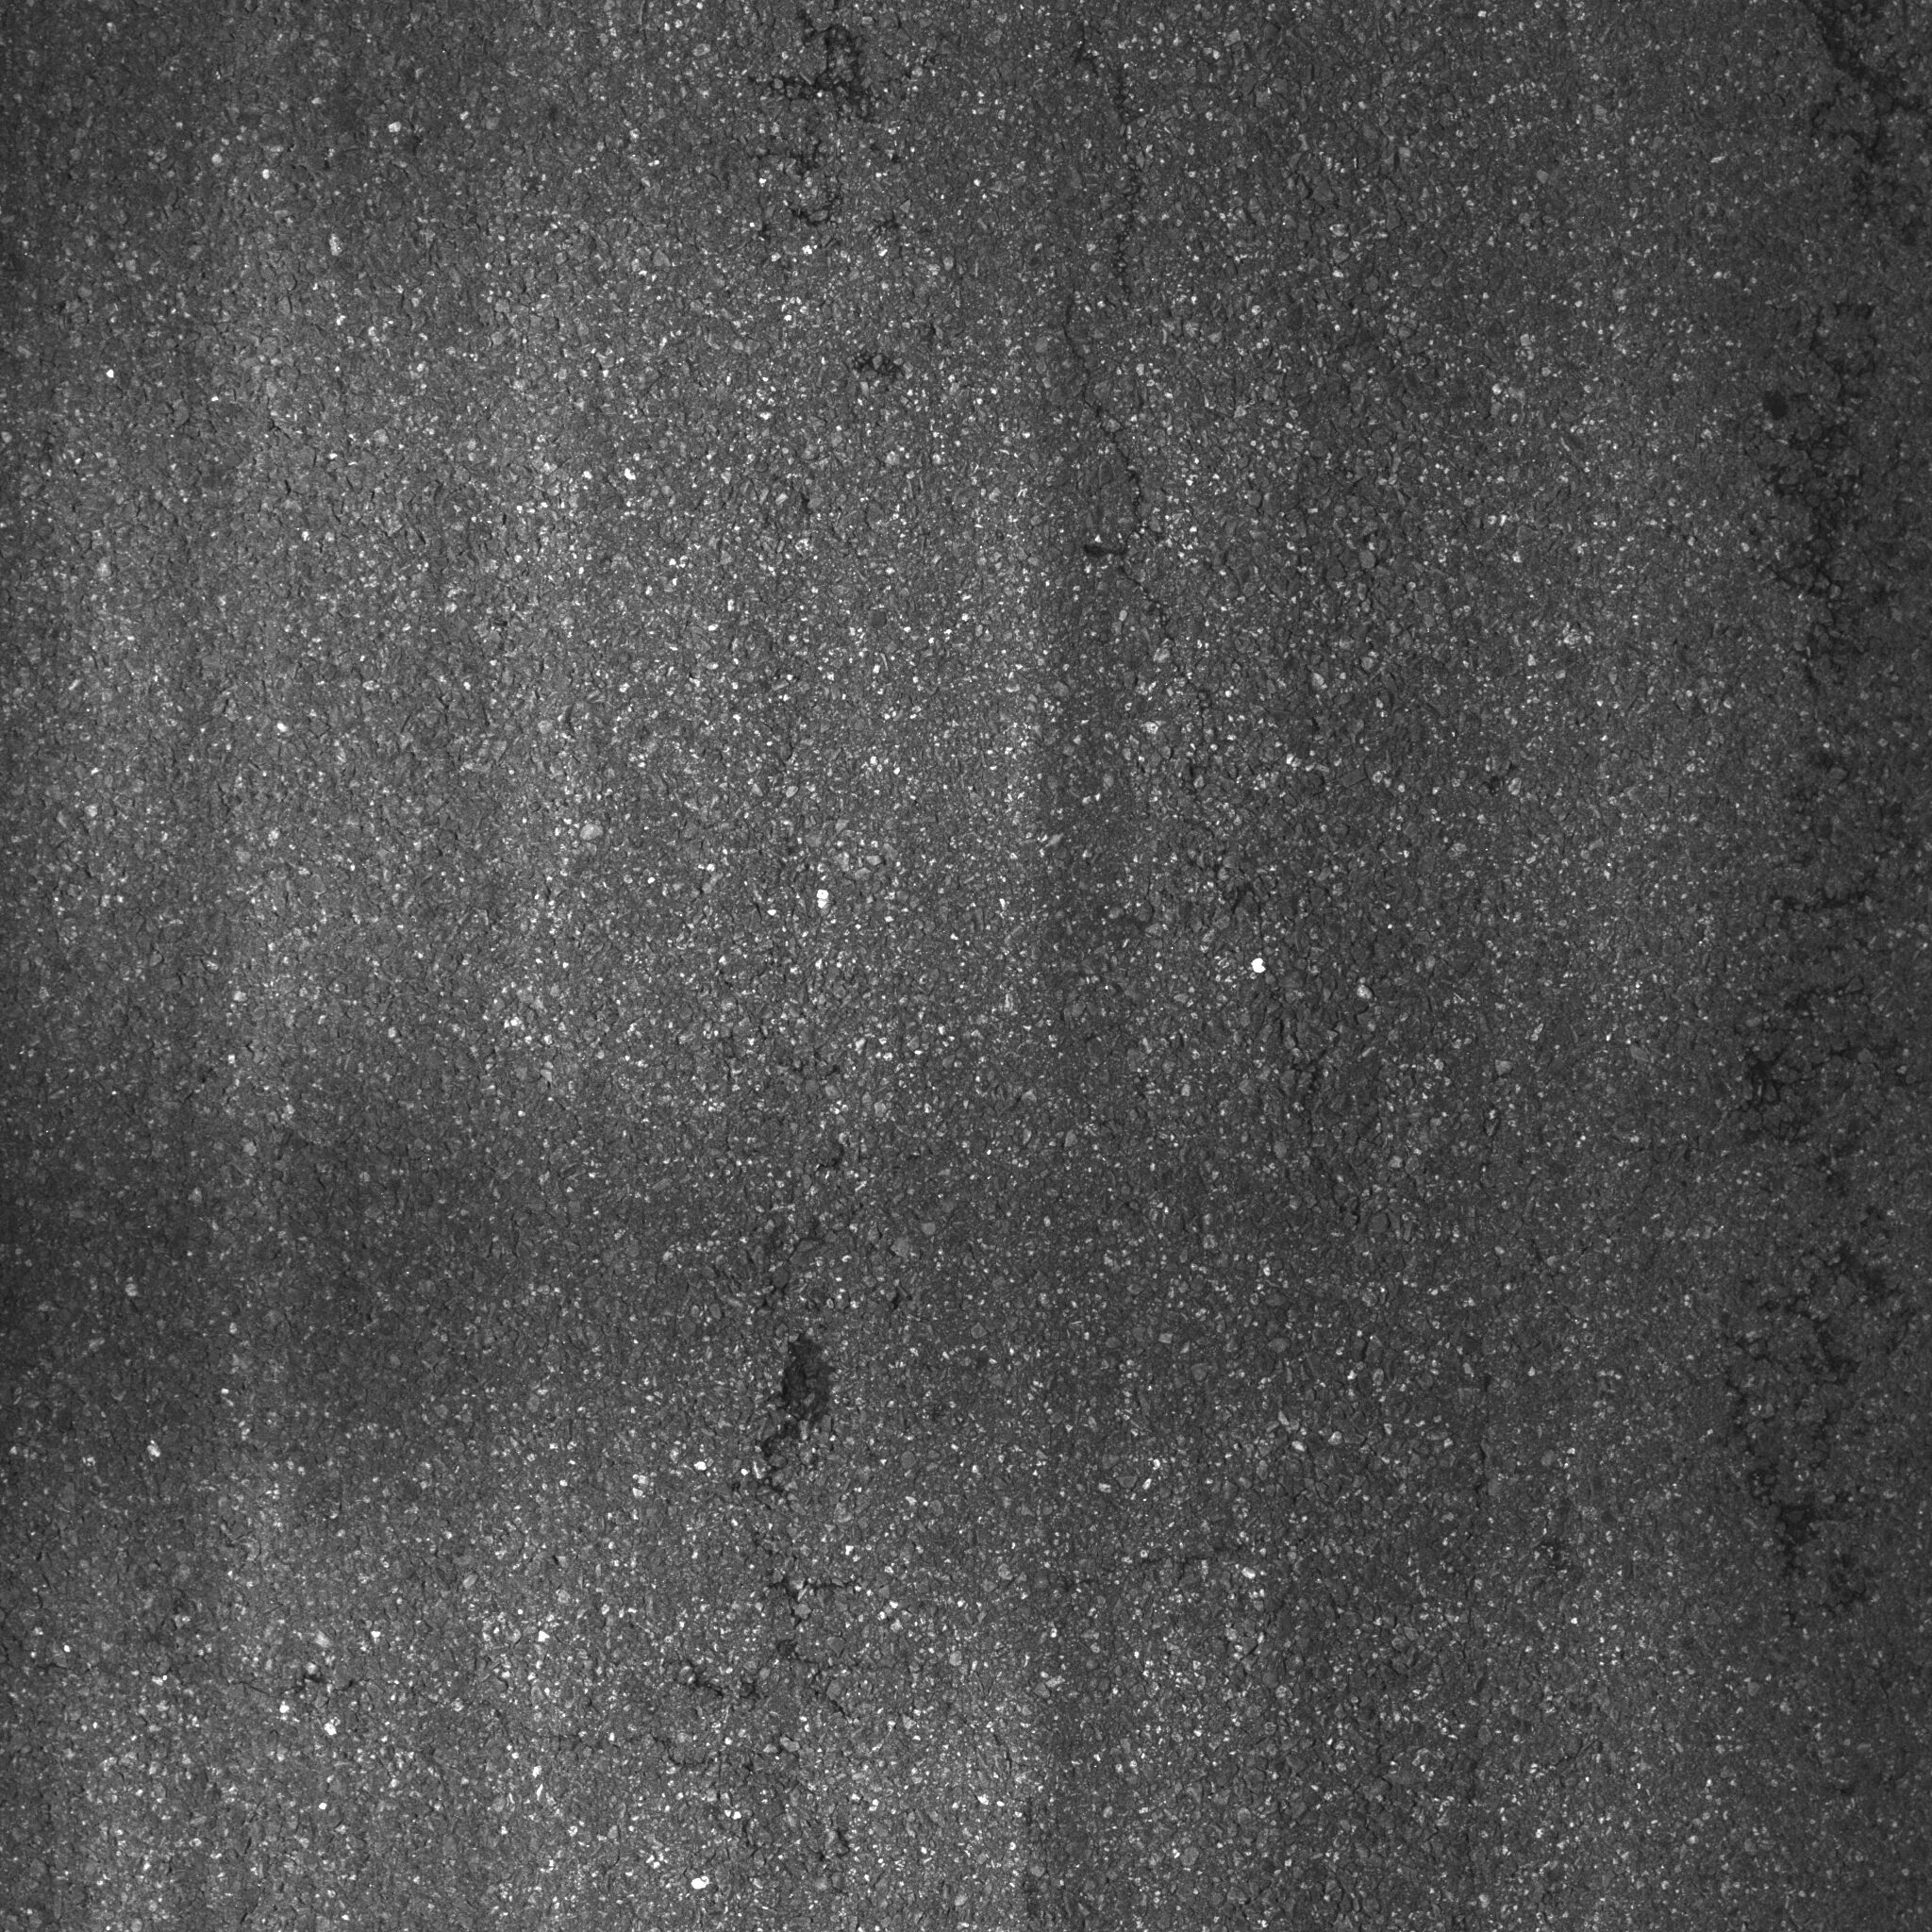longitudinal: (1054, 55, 1391, 1230)
